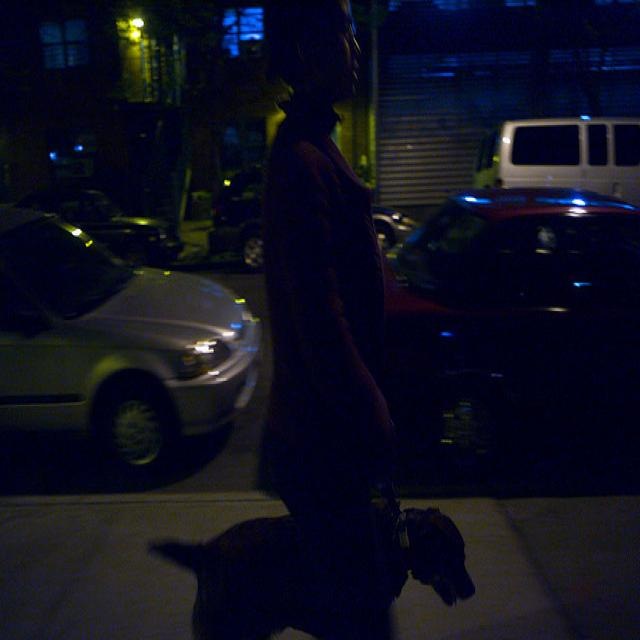Dog: (198, 436, 464, 640)
